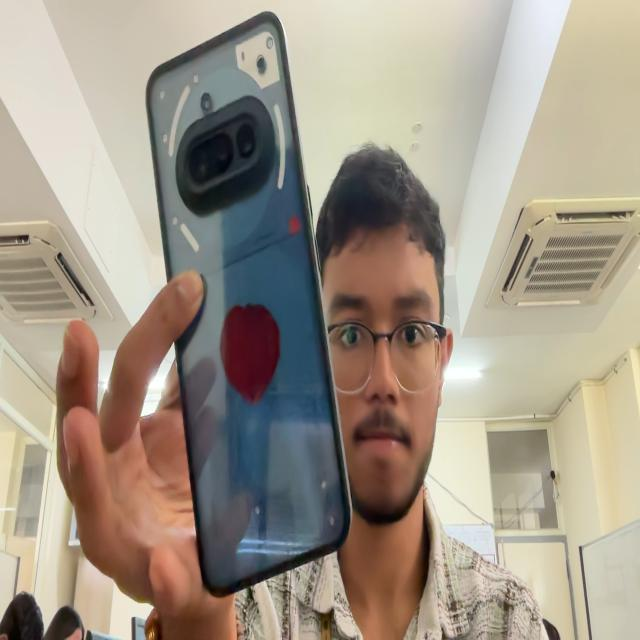Useful: (146, 12, 351, 596)
